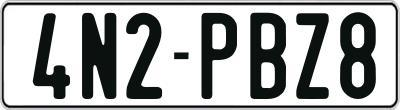2: (126, 12, 164, 102)
4: (32, 11, 69, 97)
8: (338, 11, 374, 103)
B: (250, 13, 289, 100)
N: (81, 12, 118, 104)
P: (202, 12, 239, 98)
Z: (296, 13, 331, 105)
